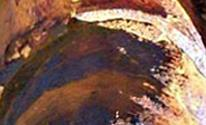rust: (75, 30, 181, 124), (79, 1, 172, 20)
